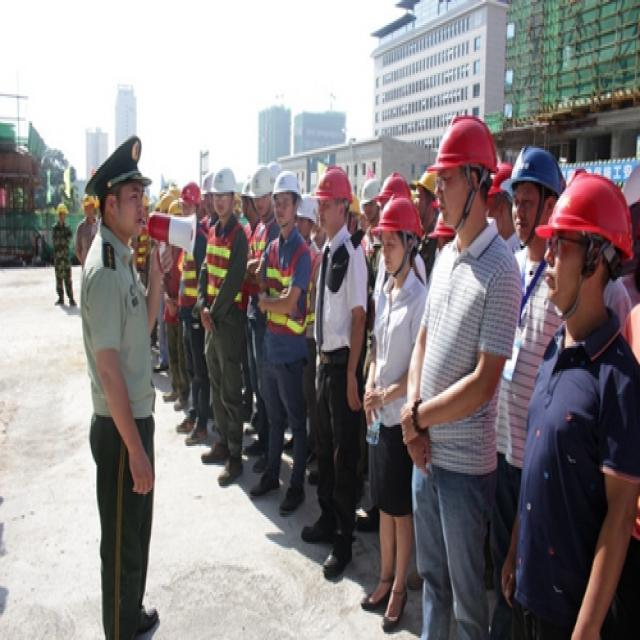Reflective-Jacket: (264, 239, 314, 344), (202, 217, 241, 302), (247, 220, 275, 323), (178, 240, 200, 322), (358, 224, 382, 281), (136, 222, 150, 278)
Safety-Helmet: (549, 173, 636, 250), (432, 115, 497, 171), (508, 144, 562, 192), (485, 156, 523, 208), (376, 198, 421, 234), (314, 167, 353, 204), (380, 170, 412, 213), (357, 169, 382, 221), (416, 167, 449, 204), (298, 190, 326, 227), (272, 167, 300, 198), (211, 165, 237, 196), (250, 165, 272, 198), (180, 178, 201, 212), (170, 198, 190, 224), (52, 196, 74, 219), (80, 190, 97, 217), (160, 187, 174, 215), (139, 195, 152, 208)
